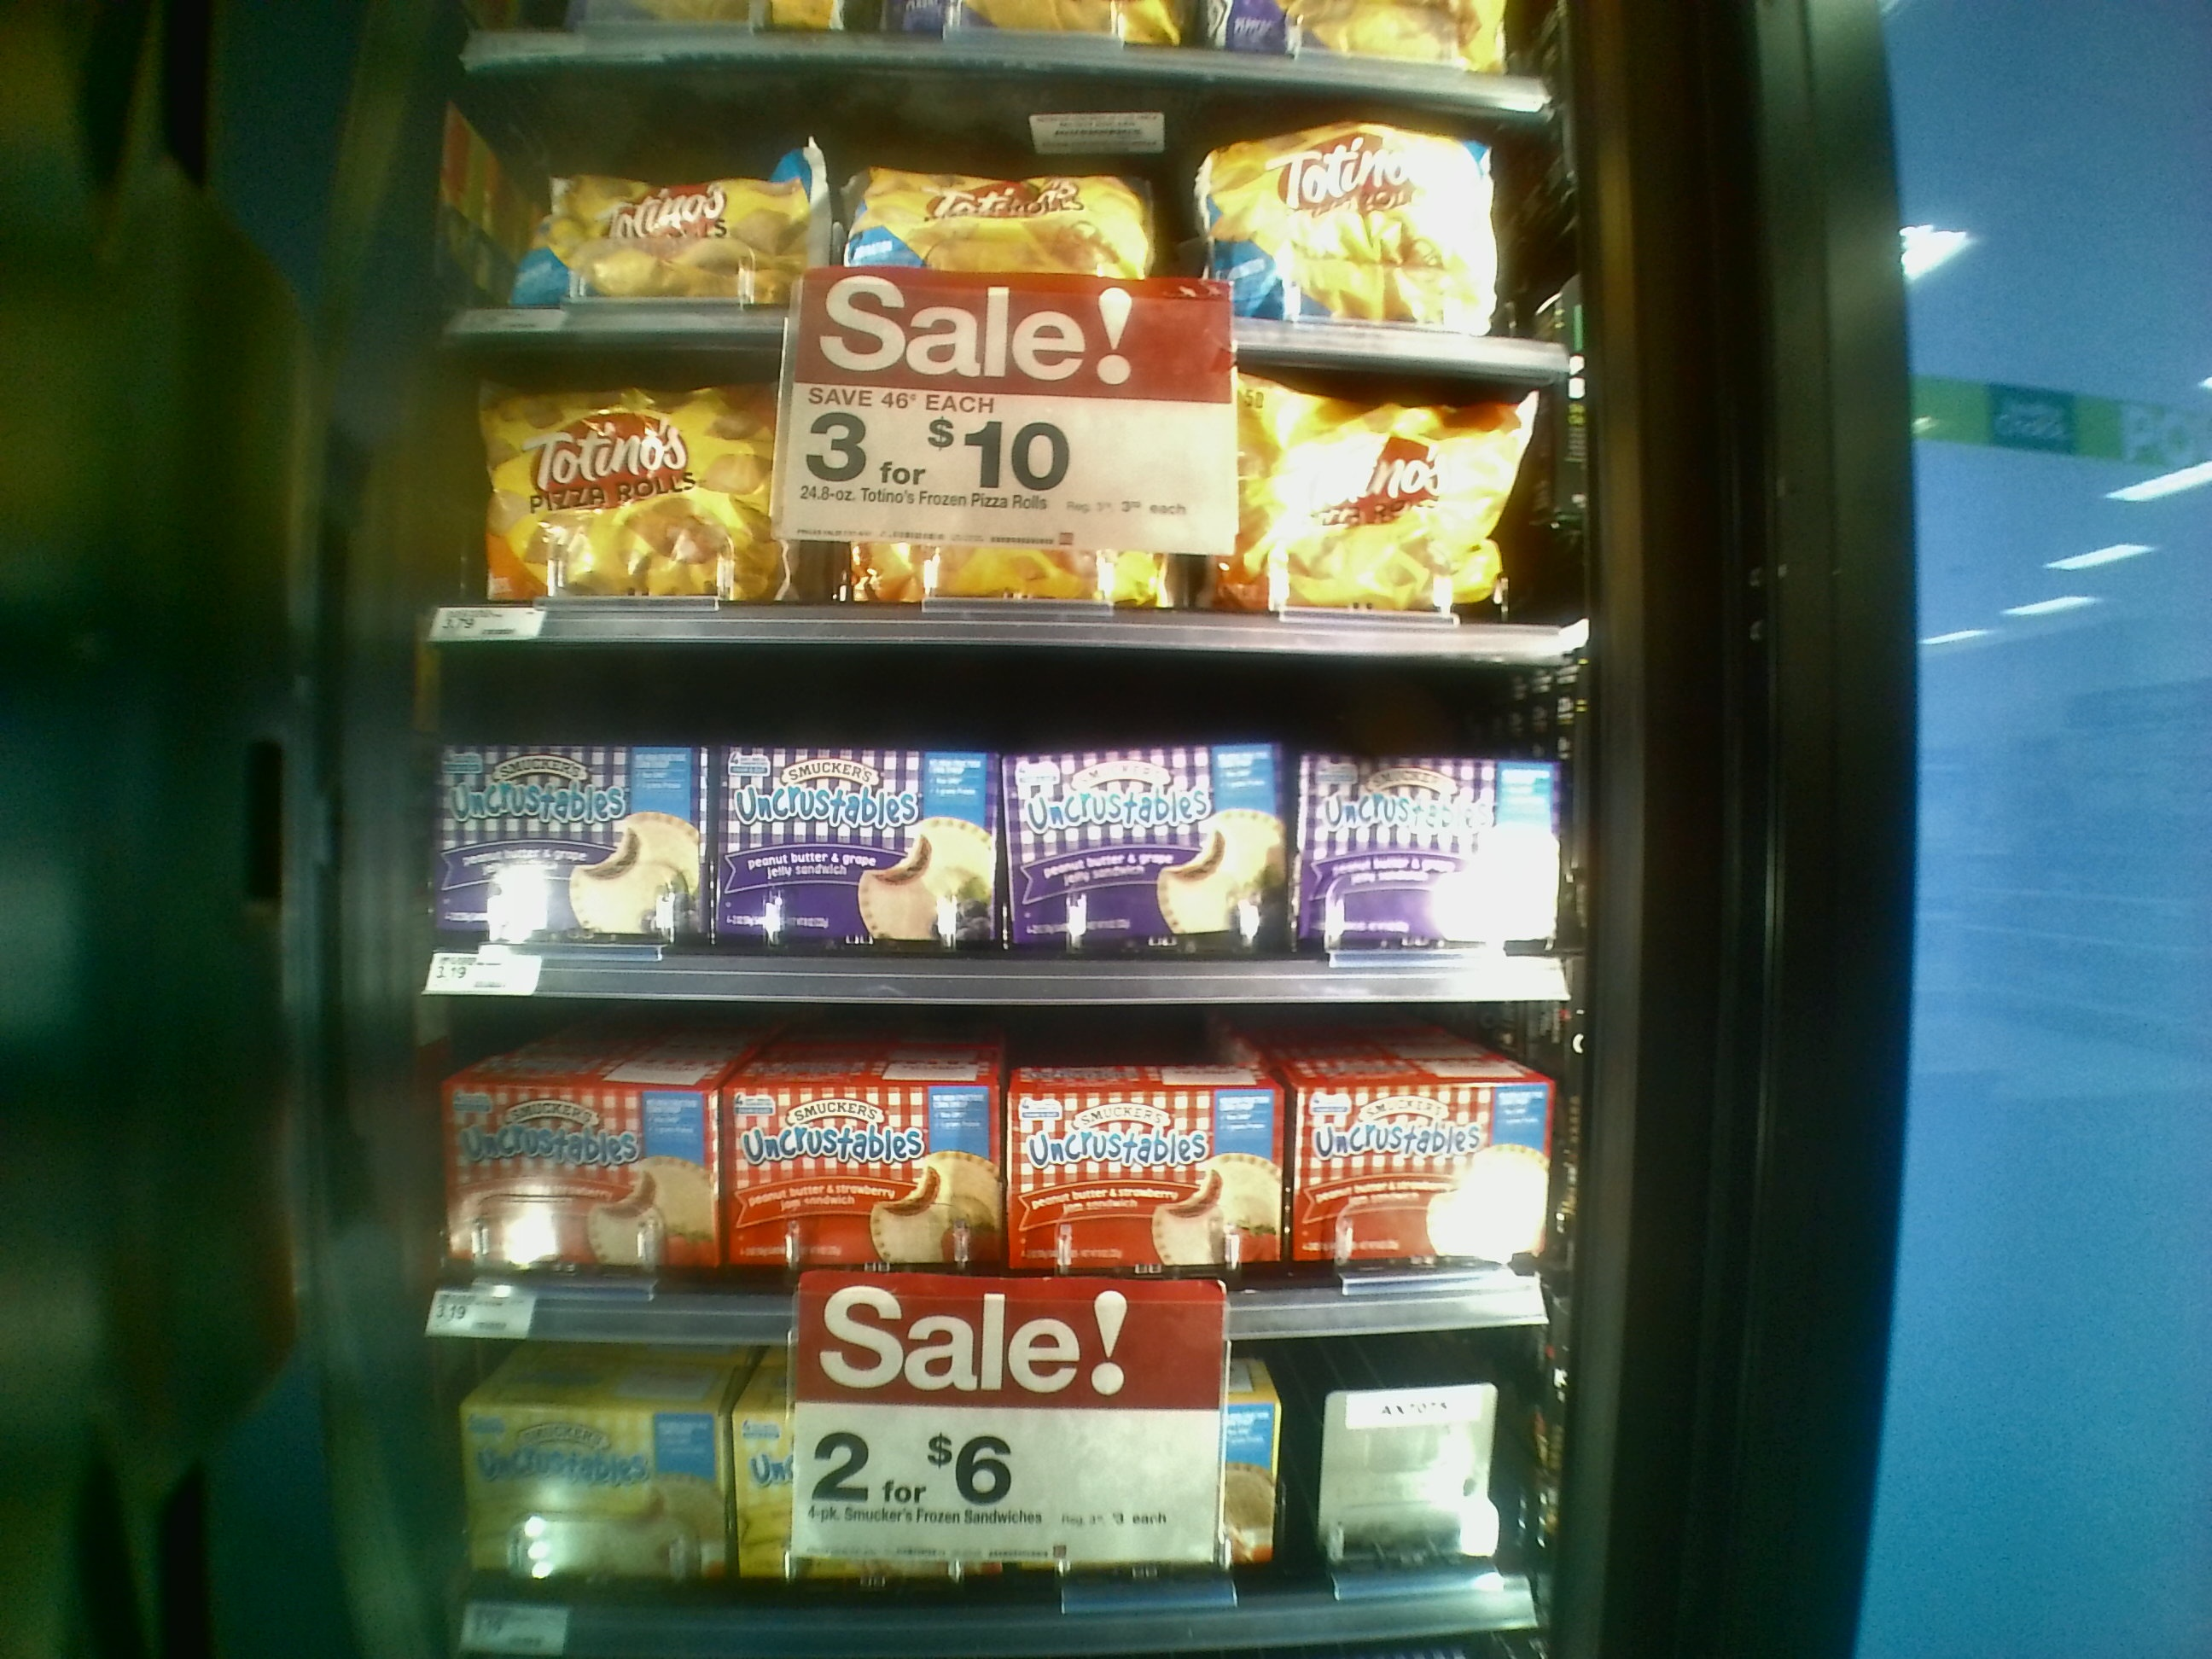shelf: (380, 655, 1601, 1006), (392, 993, 1562, 1338), (413, 38, 1608, 369), (413, 1323, 1578, 1659), (390, 347, 1583, 667)
